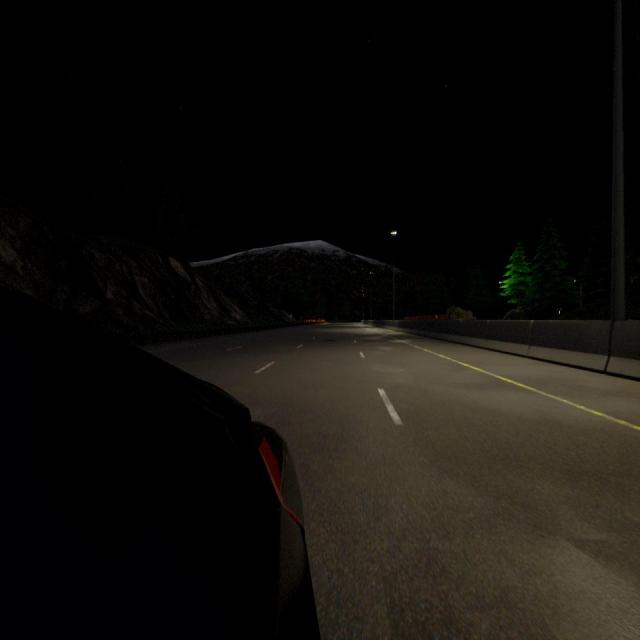Traffic_Signs: (289, 314, 293, 318)
Vehicle: (0, 287, 319, 640)
